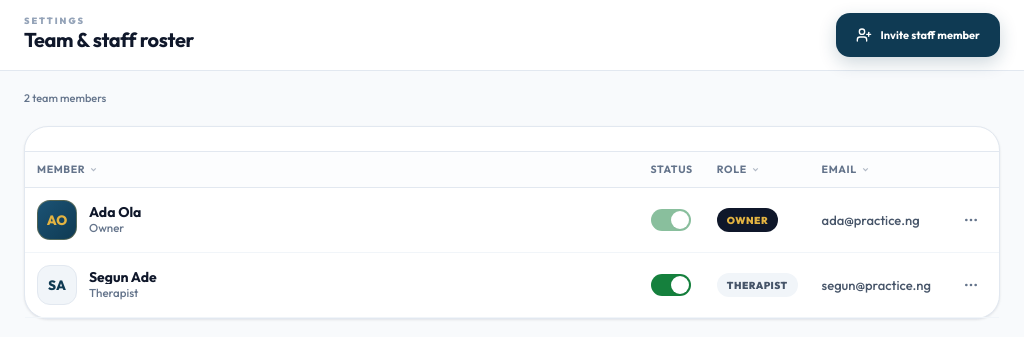
the owner › is not offered the action in the row menu either
Step 1. Click the button named "Actions for Ada Ola" → (971, 220), box [955, 204, 987, 236]
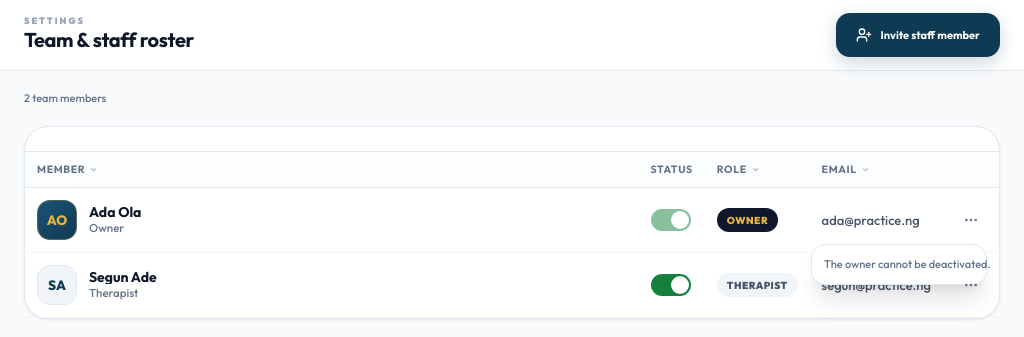
Expected: the text "The owner cannot be deactivated." is shown, [824, 257, 991, 271]
